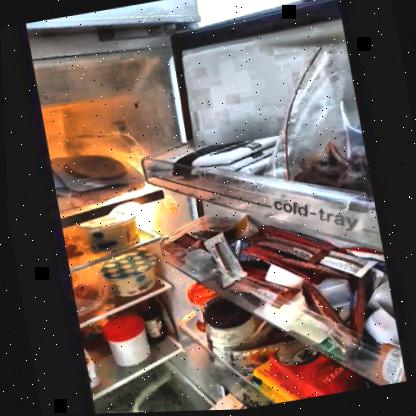chocolate: (147, 136, 273, 185)
dates: (292, 133, 368, 193)
heavy_cream: (262, 342, 337, 403)
salami: (58, 149, 127, 187)
tomato: (69, 279, 98, 305)
yoghurt: (98, 254, 159, 299), (77, 213, 140, 253)
